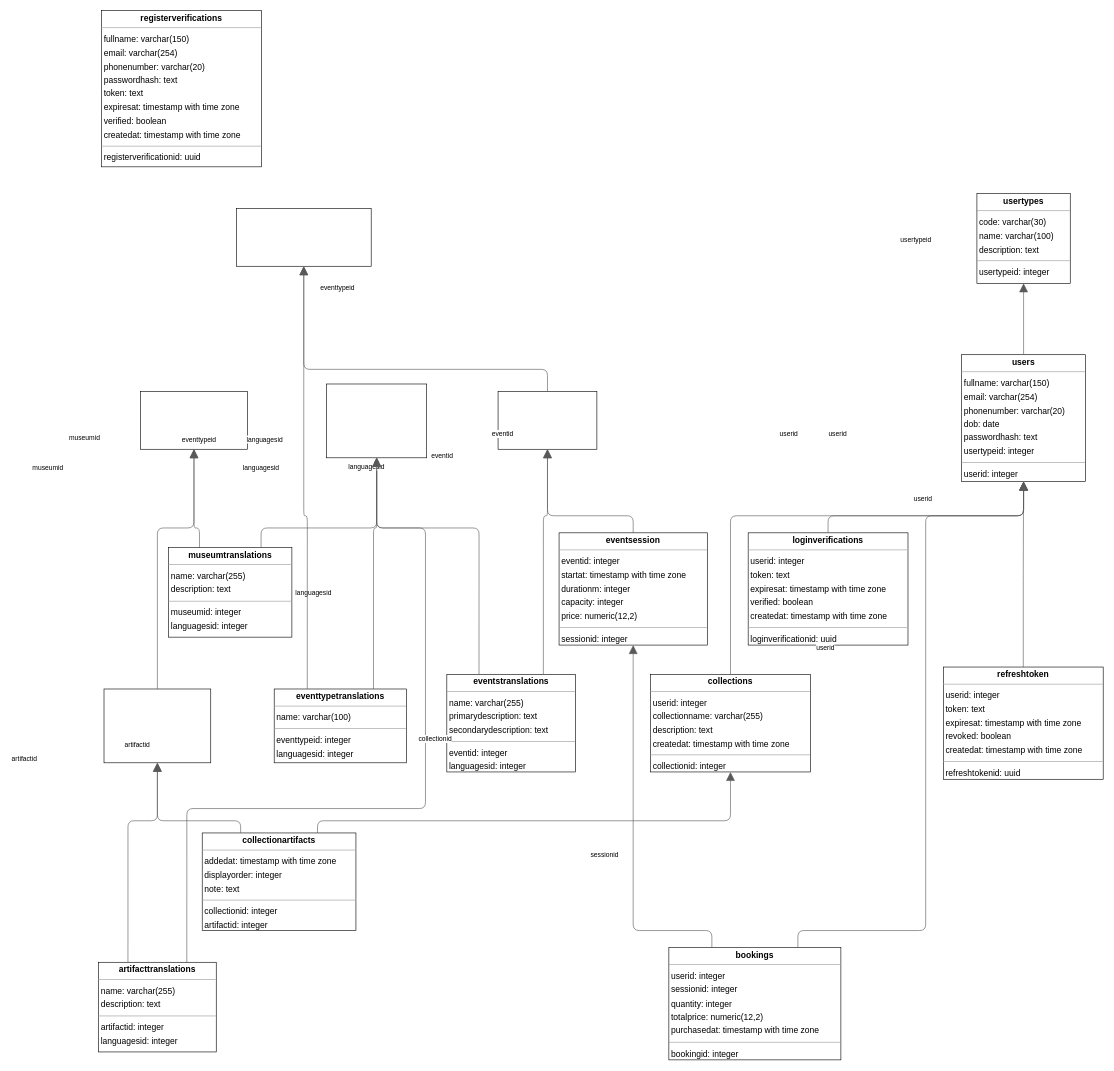
The diagram is 1114 pixels wide and 1071 high, and some of its shapes have lost their labels. The centre of each missing label's shape, as x and y in pixels:
"artifacts museumid: integer imageurl: varchar(500) artifactid: integer" belongs at point (157, 725).
"events eventtypeid: integer eventid: integer" belongs at point (547, 420).
"eventtypes eventtypename: varchar(100) eventtypeid: integer" belongs at point (303, 237).
"languages code: varchar(10) name: varchar(100) languagesid: integer" belongs at point (376, 420).
"museums establisheddate: date museumid: integer" belongs at point (193, 420).
